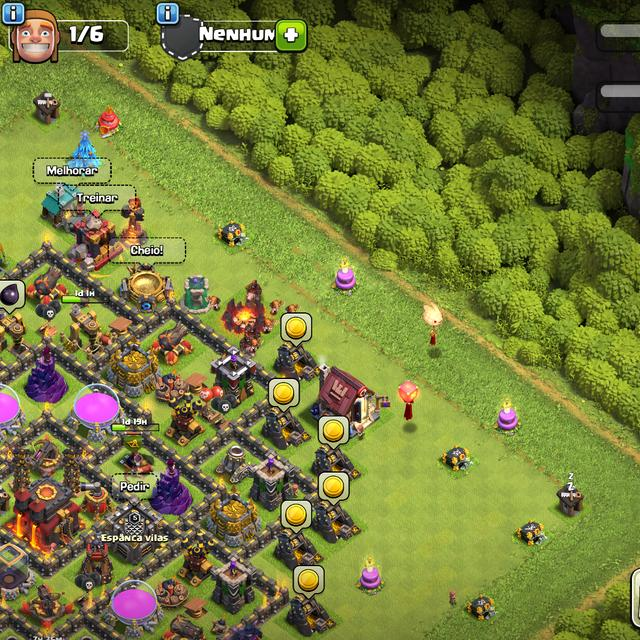ElixirNegro: (0, 279, 27, 313)
coin: (279, 312, 314, 346), (280, 500, 313, 536), (293, 564, 326, 600), (317, 414, 351, 448), (318, 471, 351, 506), (268, 378, 301, 412)
